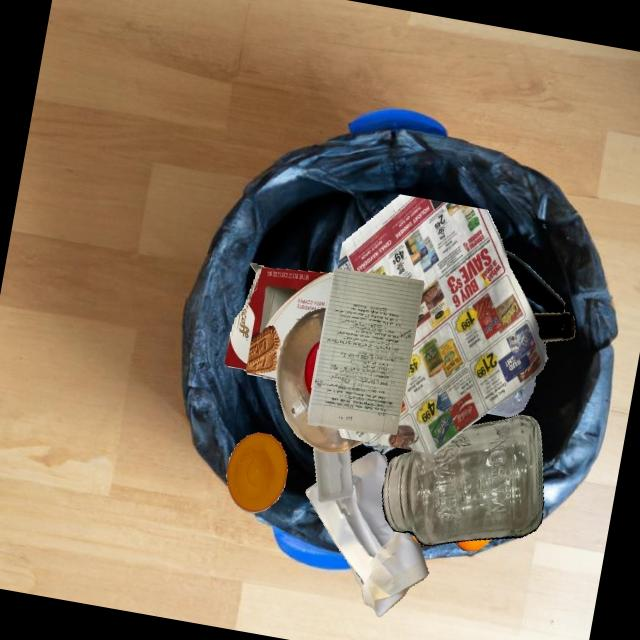biowaste: (454, 539, 492, 550)
cardboard: (225, 262, 332, 380)
glass: (381, 414, 543, 546), (504, 250, 564, 313), (532, 312, 574, 341)
paper: (337, 194, 547, 454), (305, 450, 428, 616), (307, 268, 423, 434), (361, 442, 395, 455)
plastic: (276, 307, 363, 452), (226, 432, 287, 513), (313, 447, 353, 502), (486, 375, 536, 417)
